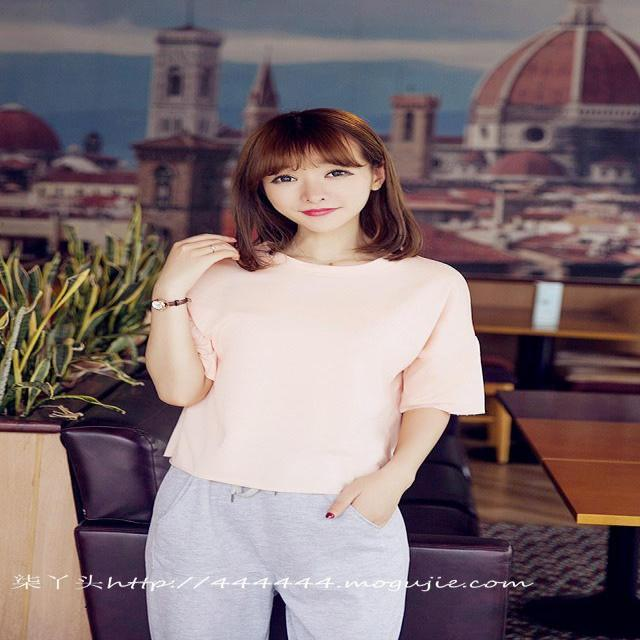short sleeve top: (163, 243, 483, 491)
trousers: (147, 444, 408, 639)
